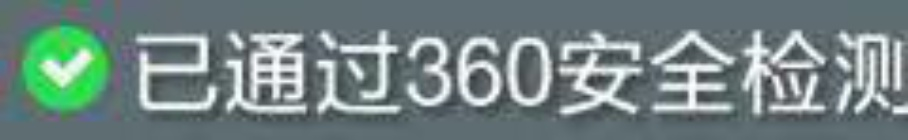CheckBox: (1, 1, 907, 139)
